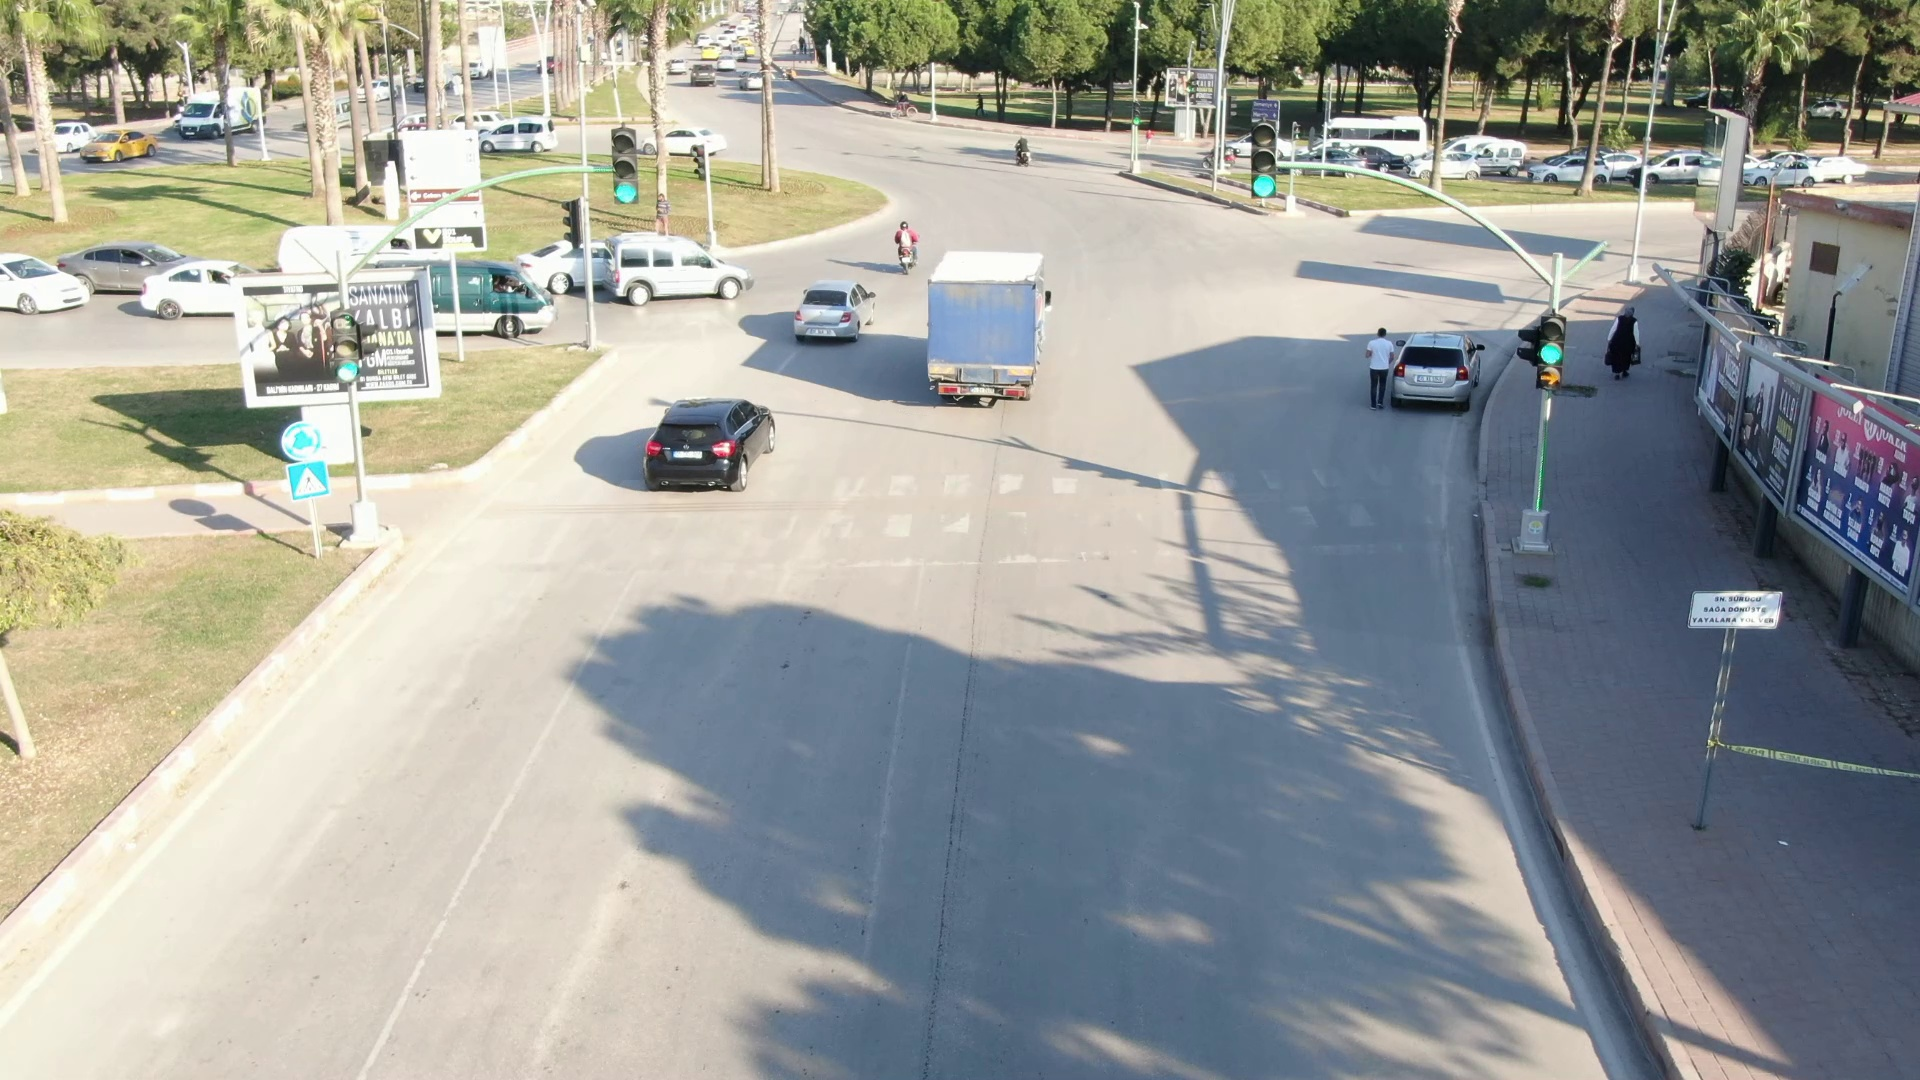car: (625, 386, 804, 501), (597, 226, 763, 307), (55, 238, 226, 317), (778, 271, 887, 348), (1403, 320, 1493, 411), (1522, 137, 1618, 201), (74, 111, 157, 175), (176, 91, 266, 141), (479, 114, 569, 164)
person: (1580, 301, 1652, 382), (1349, 317, 1394, 406)
